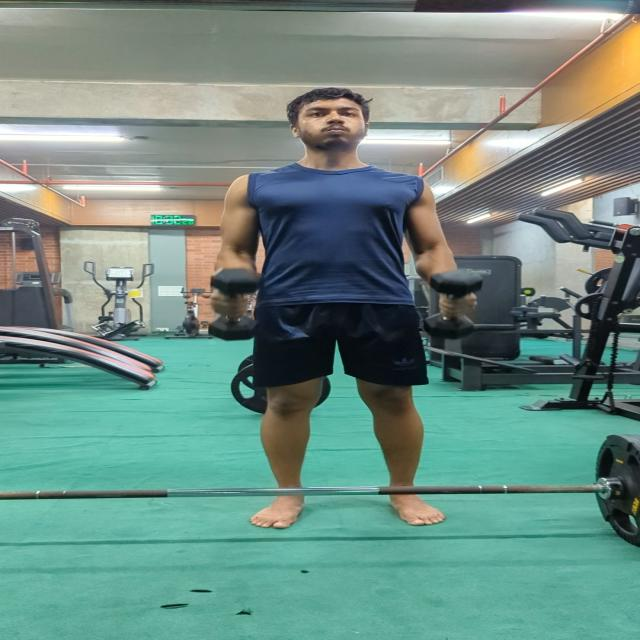Normal_DumbbellBicepCurls: (182, 84, 488, 543)
